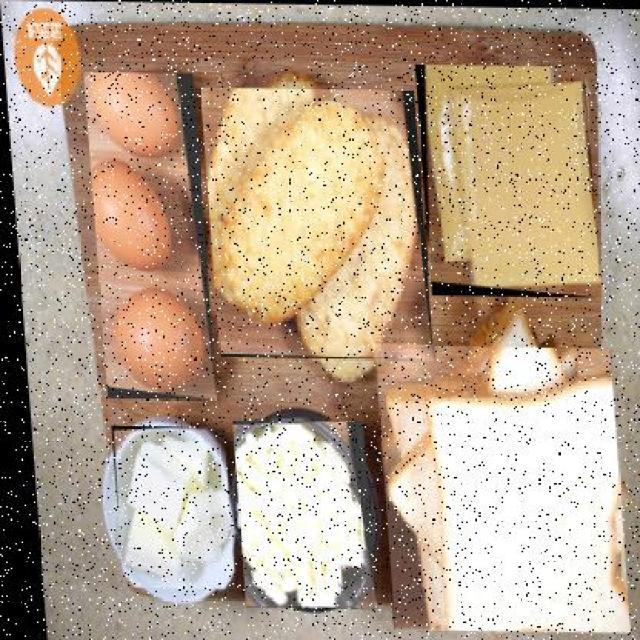Cheese: (412, 62, 597, 296), (225, 418, 368, 607)
